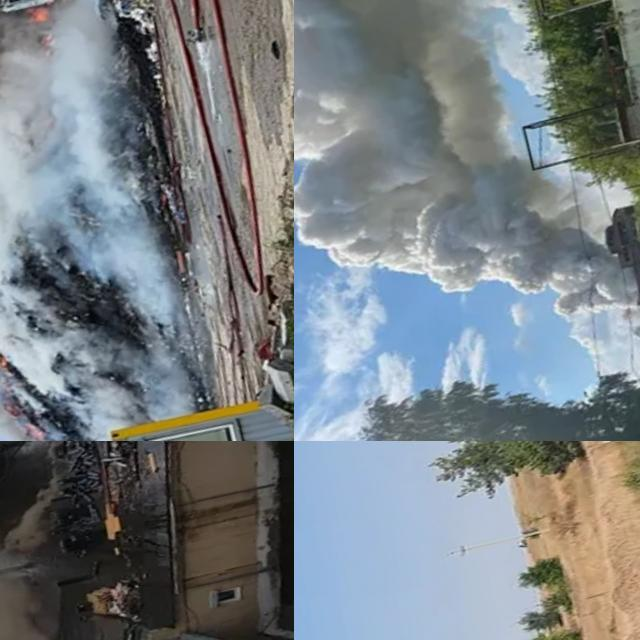smoke: (294, 0, 640, 396), (0, 0, 219, 441), (0, 441, 100, 640)
